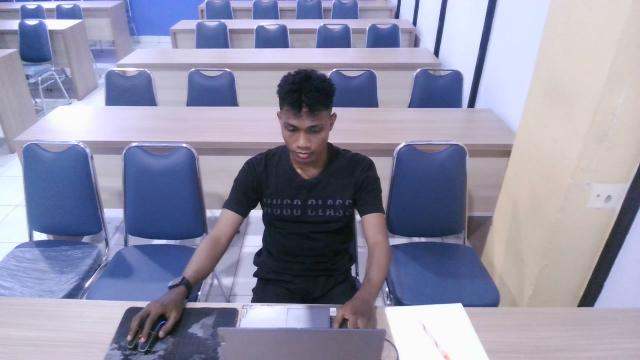Normal_Focus: (176, 50, 423, 360)
